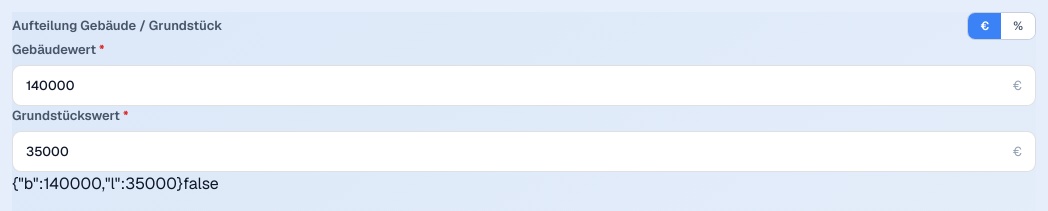
BuildingShareFields › marks the building value dirty after typing a percentage
The width and height of the screenshot is (1048, 211).
Expected: the text with test id "dirty" reads "false", [183, 173, 219, 194]
Click the button "%" at coordinates (1018, 26), box [1001, 13, 1035, 39]
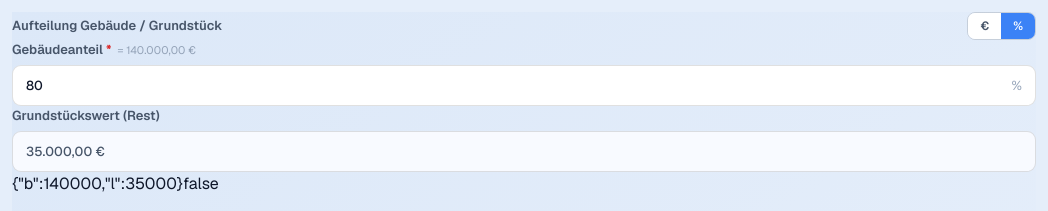
Replace the text in the field labelled "Gebäudeanteil *= 140.000,00 € %" with "30" at coordinates (512, 85), box [13, 66, 1012, 105]
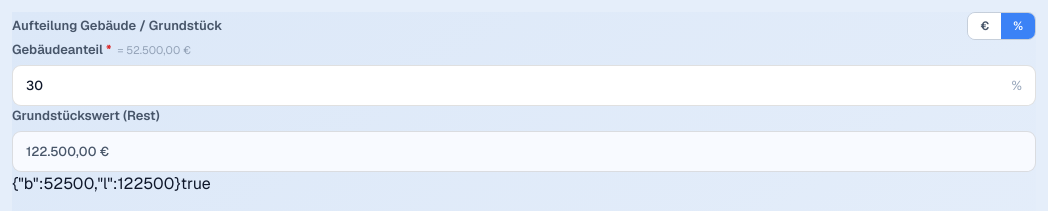
Now the text with test id "dirty" reads "true", box [181, 173, 211, 194]
